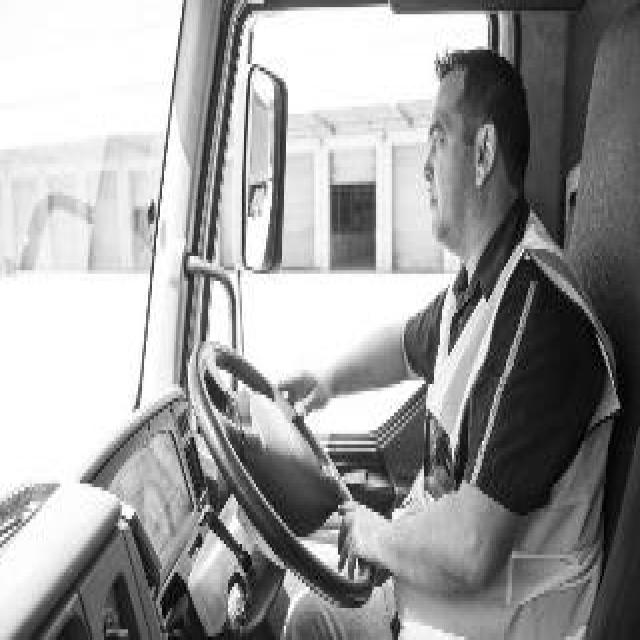Focused: (417, 84, 486, 250)
